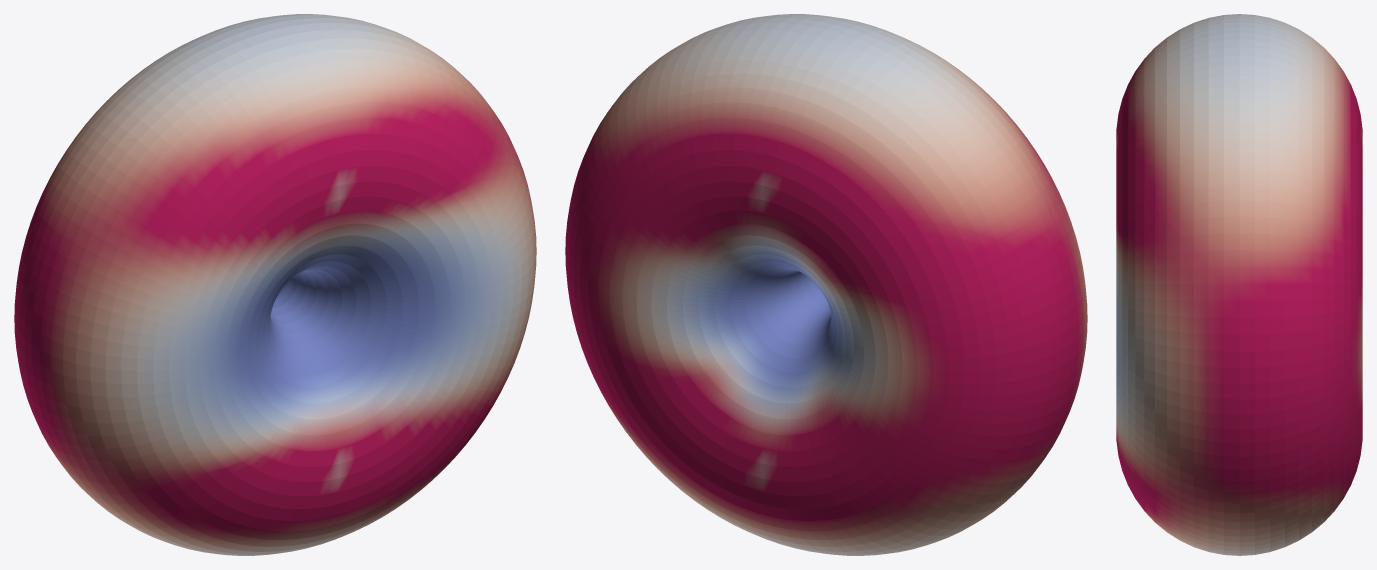
3 views of the same model, side by side, from view 1: azimuth 30°, elevation 25°; view 2: azimuth 150°, elevation 25°; view 3: azimuth 270°, elevation 25° (orthographic). The views are drawn at different scales.
Parts seen in each view (by area): view 1: world; view 2: world; view 3: world.
Boxes of the visible parts, box(x1,y1,x2,y2) form: world: box(14, 14, 536, 555); world: box(565, 14, 1087, 555); world: box(1116, 14, 1362, 555).
Size of the model in its own units: 20.8 by 20.8 by 9.45.
